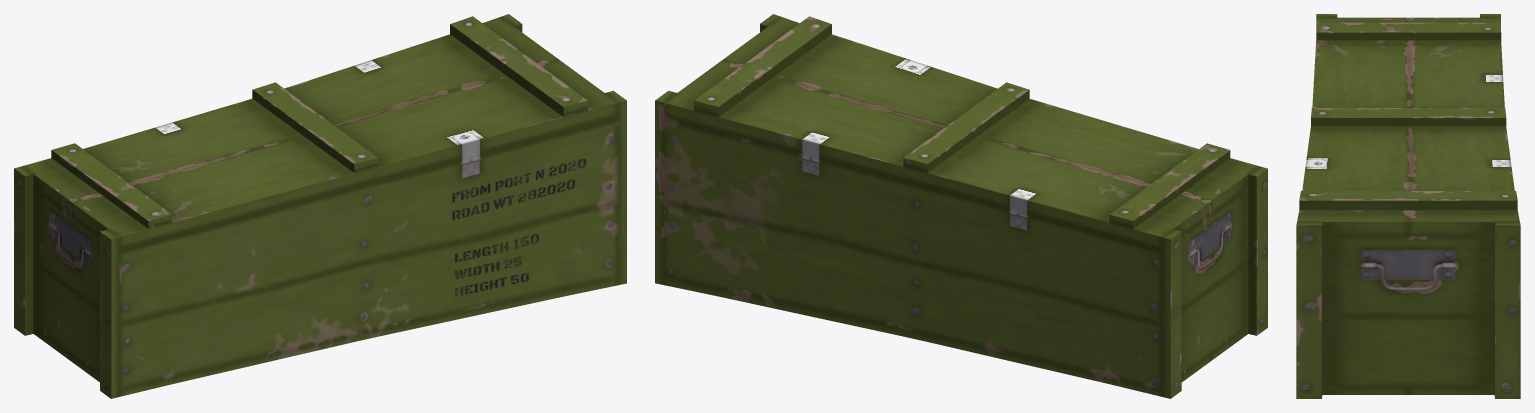
Rendered from Crate04_5.FBX.
3 views of the same model, side by side, from view 1: azimuth 30°, elevation 25°; view 2: azimuth 150°, elevation 25°; view 3: azimuth 270°, elevation 25° (orthographic). The views are drawn at different scales.
Parts seen in each view (by area): view 1: Crate04_5; view 2: Crate04_5; view 3: Crate04_5.
Boxes of the visible parts, x1,y1,x2,y2 form: Crate04_5: (14, 14, 626, 398); Crate04_5: (655, 14, 1267, 398); Crate04_5: (1296, 14, 1520, 398).
Size of what is drawn, in the model's own units: 1.5 by 0.5417 by 0.608.
